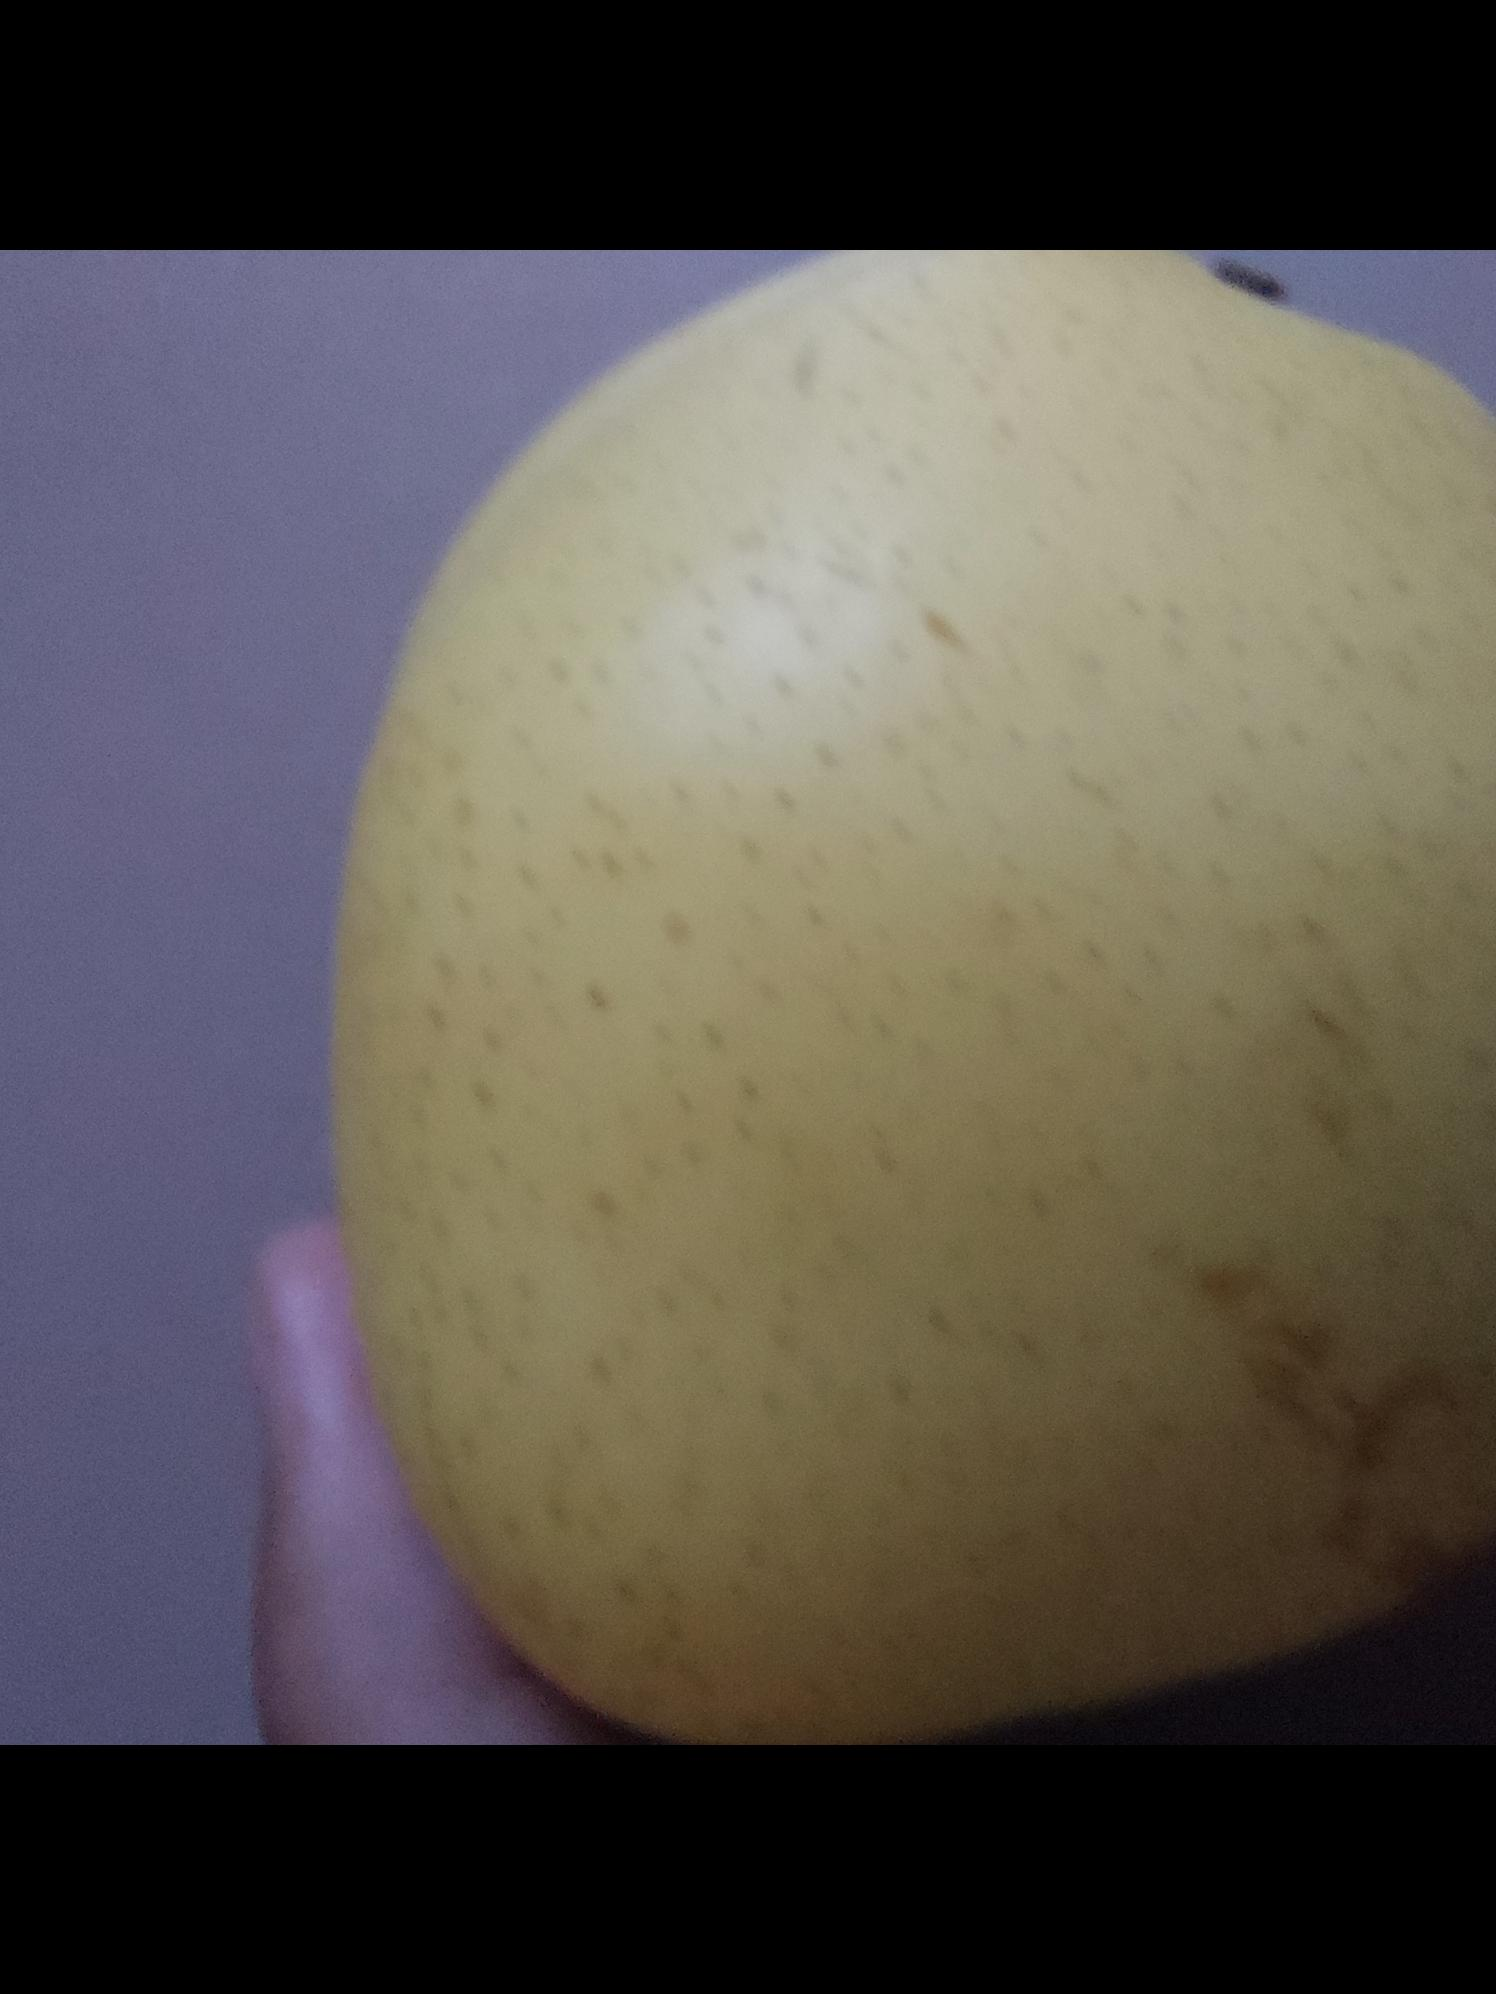Good Pear: (327, 270, 1496, 1746)
